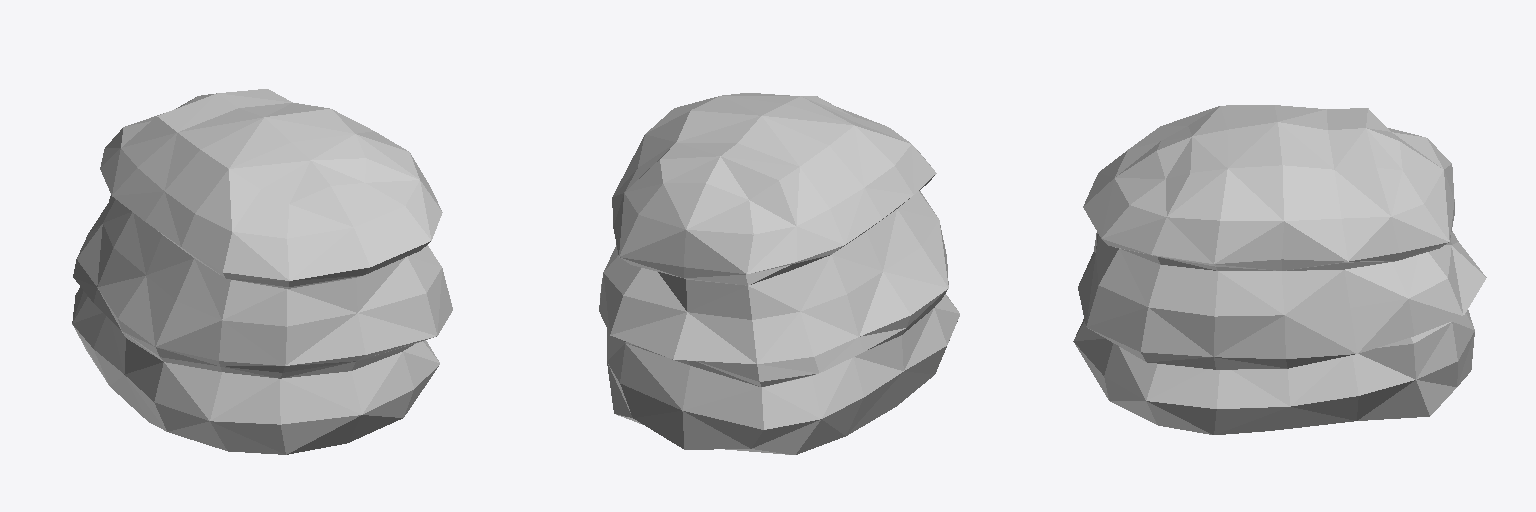
3 renders of one model, left to right at view 1: azimuth 30°, elevation 25°; view 2: azimuth 150°, elevation 25°; view 3: azimuth 270°, elevation 25°, orthographic.
Visible parts, largest first — view 1: Bush_1; view 2: Bush_1; view 3: Bush_1.
Part boxes in pixels (bbox=[...]): Bush_1: bbox=[72, 89, 452, 454]; Bush_1: bbox=[599, 93, 959, 454]; Bush_1: bbox=[1073, 105, 1486, 434].
Size of the model in its own units: 133 by 124 by 169.